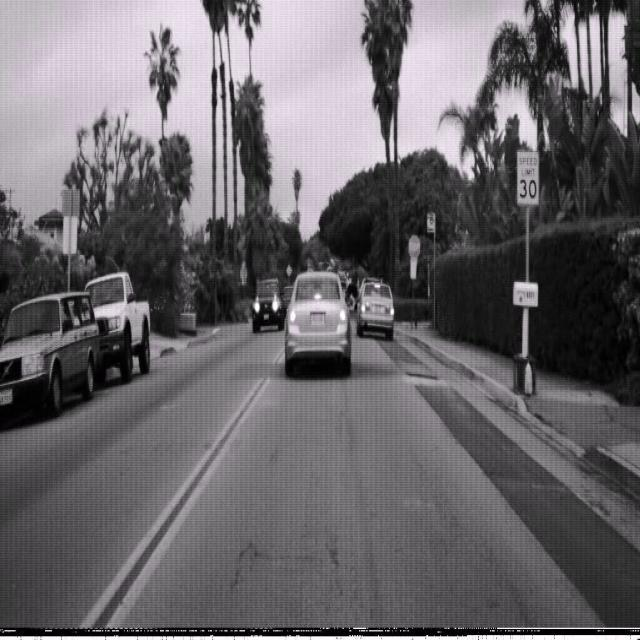stop_sign: (408, 234, 420, 258)
